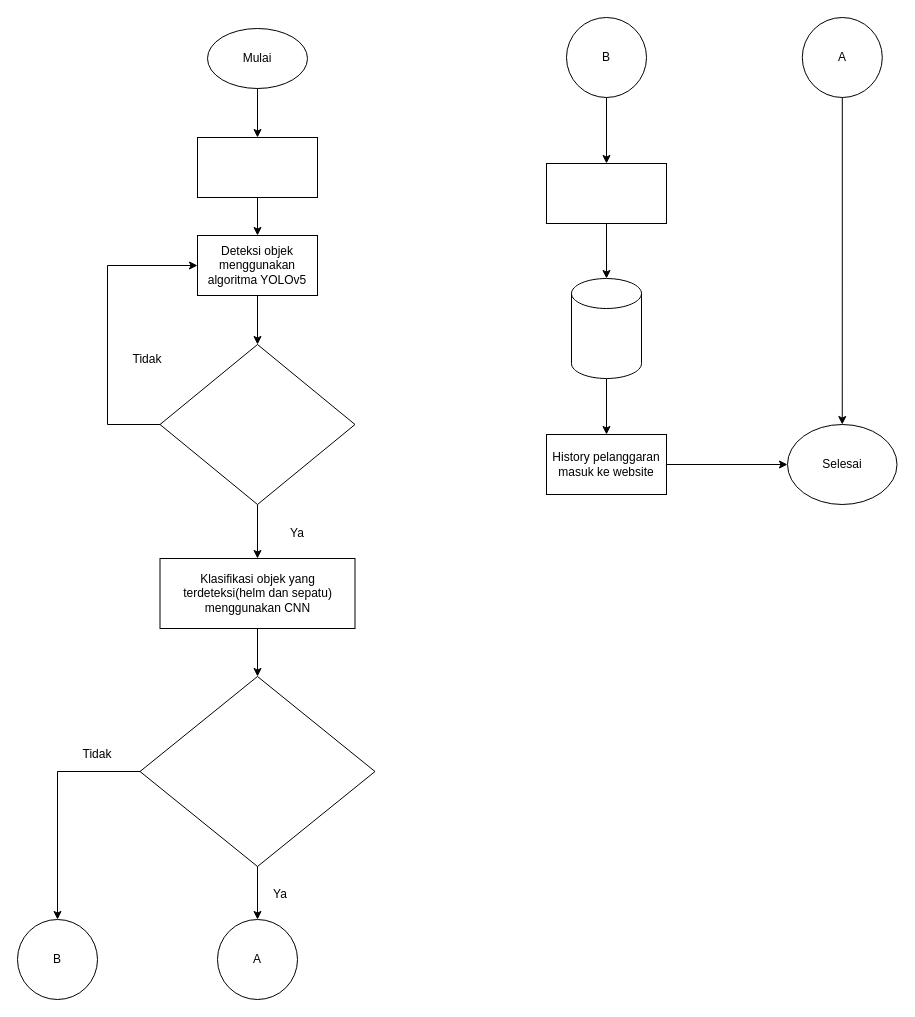
This 915x1017 diagram has some shape labels left out. Each missing label, with the box of its shape:
Apakah helm dan sepatu yang terdeteksi berjenis APD?: (139, 676, 375, 866)
Apakah terdapat objek berupa manusia, helm dan sepatu terdeteksi?: (159, 344, 355, 504)
Kamera CCTV aktif, menangkap gambar objek: (196, 136, 318, 198)
menyimpan riwayat history pelanggaran ke My SQL: (570, 278, 642, 378)
Speaker aktif: (546, 162, 666, 224)
